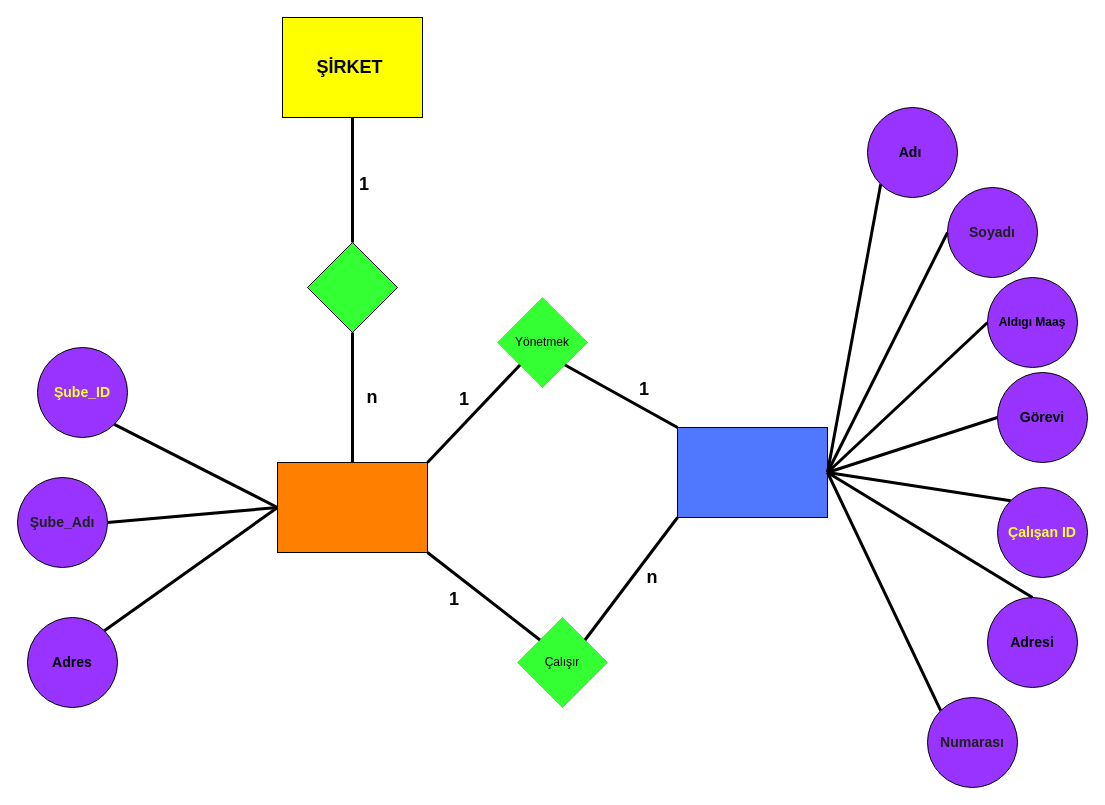
Image size: 1105x805. Some labels were removed from this diagram. The centre of each missing label's shape, as x and y in pixels:
"Baglı_olma" belongs at point (352, 287).
"ÇALIŞAN" belongs at point (752, 472).
"Şube" belongs at point (352, 507).
